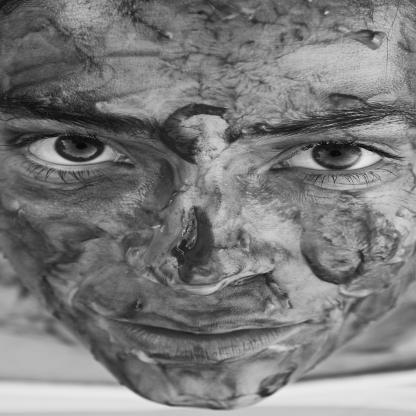Eye: (270, 136, 405, 186), (6, 130, 135, 176)
Mouth: (100, 316, 312, 360)
Nose: (126, 176, 274, 296)
